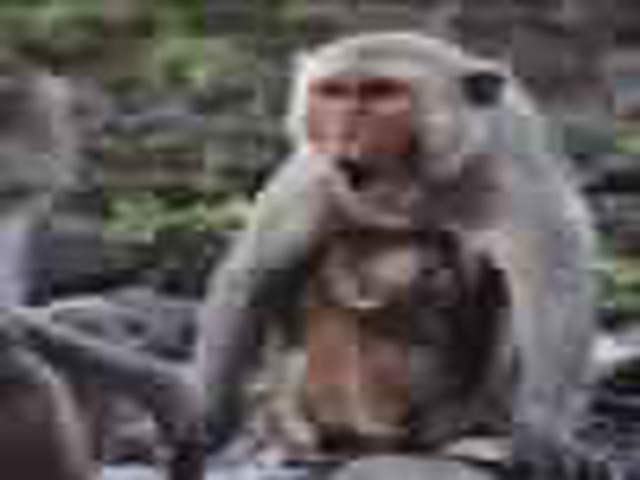Monkey: (223, 29, 626, 471)
